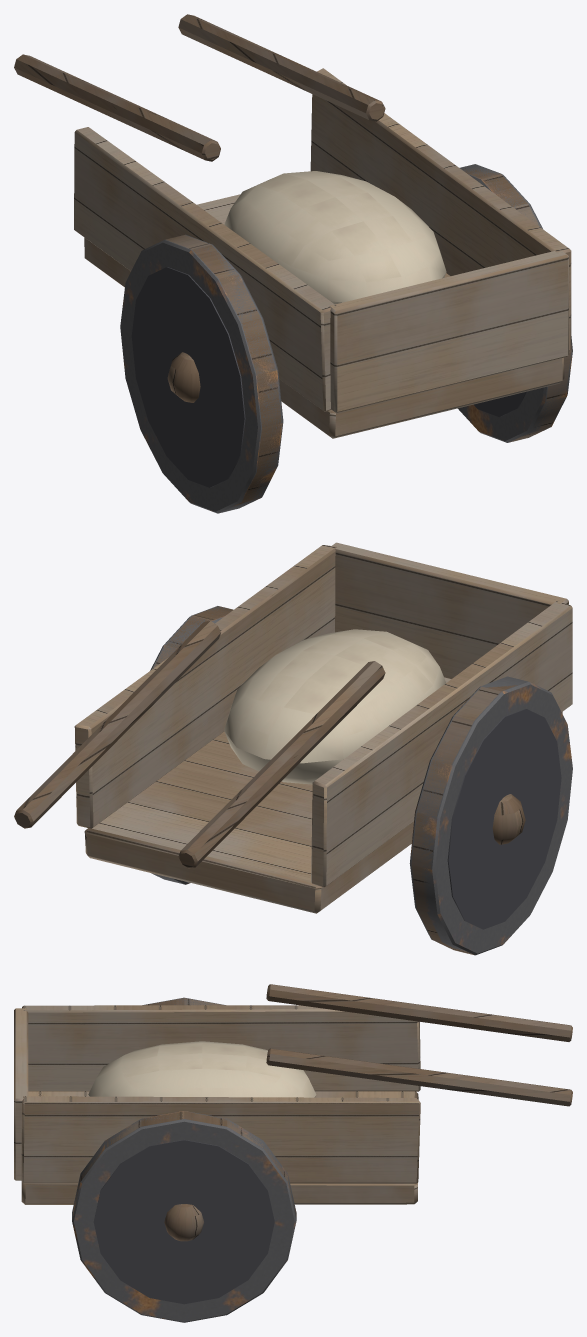
The model's file is cart.glb.
3 views of the same model, one above another, from view 1: azimuth 30°, elevation 25°; view 2: azimuth 150°, elevation 25°; view 3: azimuth 270°, elevation 25° (orthographic). The views are drawn at different scales.
Parts seen in each view (by area): view 1: cart; view 2: cart; view 3: cart.
Part boxes in pixels (bbox=[...]): cart: bbox=[14, 14, 572, 513]; cart: bbox=[14, 542, 572, 955]; cart: bbox=[14, 984, 572, 1322].
Size of what is drawn, in the model's own units: 1.79 by 1.49 by 3.09.
Materials: 5 (4 with a texture image).
